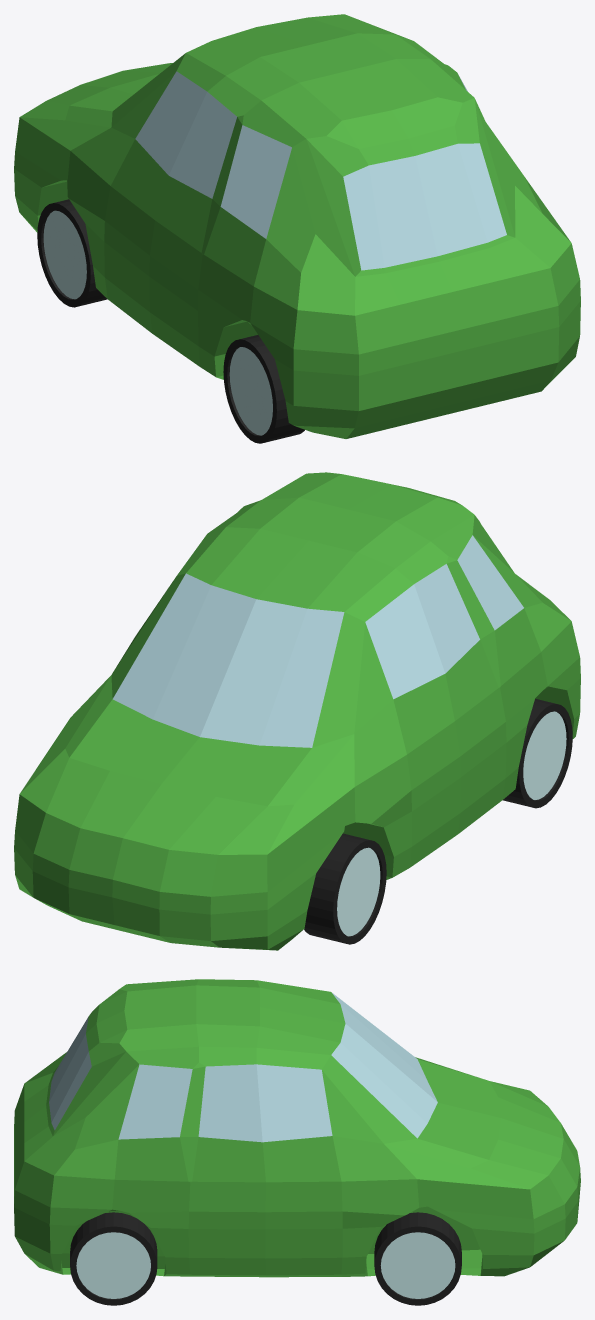
Rendered from shortcar.fbx.
3 renders of one model, top to bottom at view 1: azimuth 30°, elevation 25°; view 2: azimuth 150°, elevation 25°; view 3: azimuth 270°, elevation 25°, orthographic. The views are drawn at different scales.
Parts seen in each view (by area): view 1: Short; view 2: Short; view 3: Short.
Boxes of the visible parts, x1,y1,x2,y2 form: Short: [14, 14, 580, 443]; Short: [14, 472, 580, 950]; Short: [14, 979, 580, 1305].
Bounding box in the file's own units: 350 × 675 × 318.
